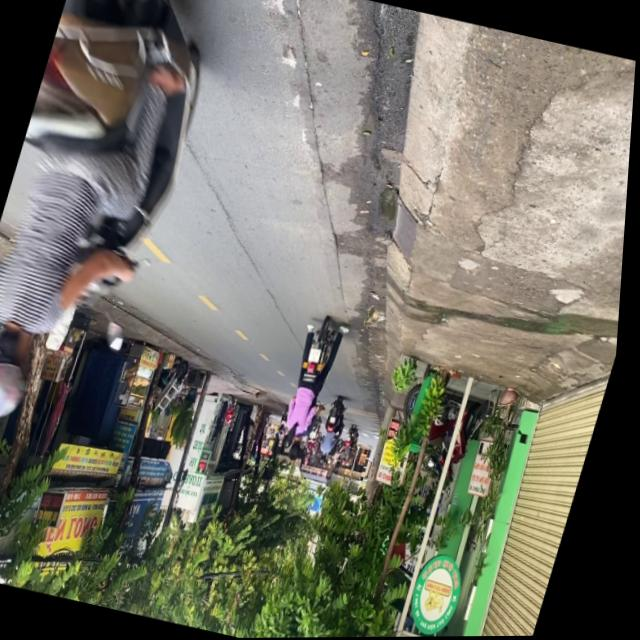helmet: (0, 0, 240, 453), (0, 322, 49, 426)
licenseplate: (274, 315, 352, 464)
motorcyclist: (285, 425, 304, 450), (293, 436, 309, 463)
nohelmet: (311, 347, 326, 363)
